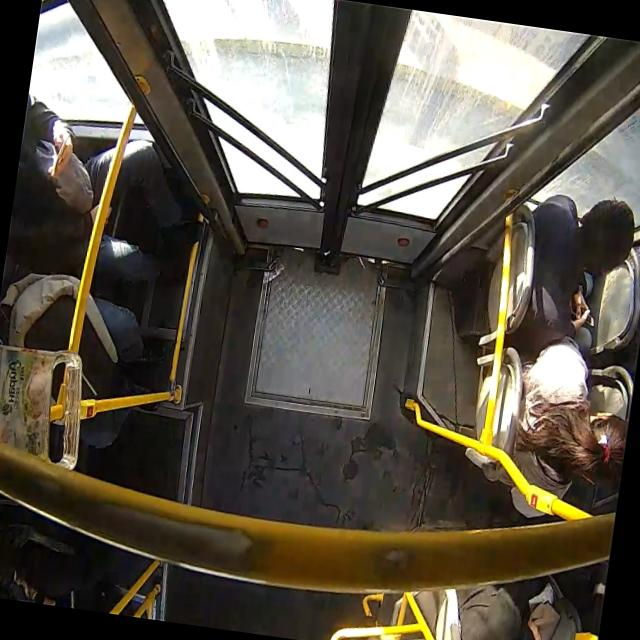bus-door: (68, 0, 640, 278)
